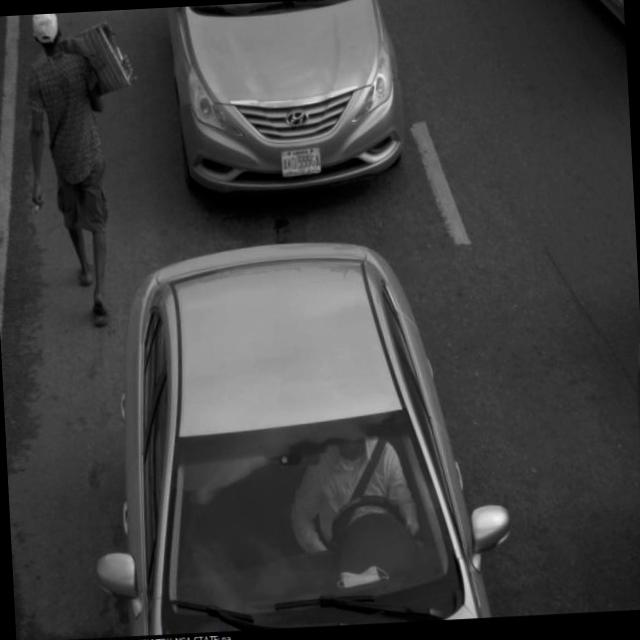person_with_seatbelt: (302, 420, 413, 560)
